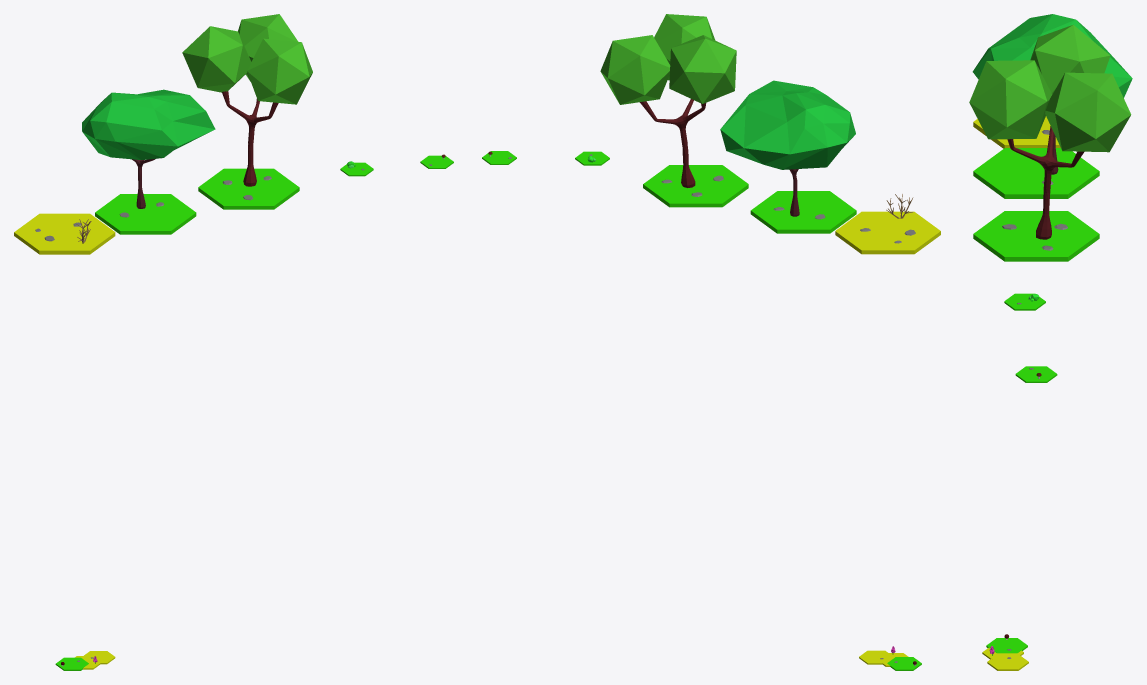
The model's file is yellow3.0.glb.
The picture shows the model from 3 angles, left to right: view 1: azimuth 30°, elevation 25°; view 2: azimuth 150°, elevation 25°; view 3: azimuth 270°, elevation 25°; orthographic projection. The views are drawn at different scales.
Visible parts, largest first — view 1: Icosphere.008, Icosphere.003, Icosphere.001, Cylinder.007, Cylinder.008, Cylinder.009, Icosphere.002, Cube.001; view 2: Icosphere.008, Icosphere.001, Icosphere.002, Cylinder.007, Cylinder.008, Cylinder.009, Icosphere.003, Cube.001; view 3: Icosphere.002, Icosphere.003, Cylinder.009, Cylinder.008, Icosphere.001, Icosphere.008, Cube.001, Cylinder.007, Cylinder.026, Cylinder.013, Cylinder.030, Cylinder.002 (+1 smaller).
Part boxes in pixels (box(x1,y1,x2,y2)): Icosphere.008: box(82, 89, 215, 160); Icosphere.003: box(247, 38, 312, 104); Icosphere.001: box(182, 26, 251, 92); Cylinder.007: box(14, 213, 115, 254); Cylinder.008: box(95, 194, 196, 234); Cylinder.009: box(198, 168, 299, 209); Icosphere.002: box(238, 14, 298, 81); Cube.001: box(222, 91, 278, 186); Icosphere.008: box(720, 80, 855, 169); Icosphere.001: box(669, 35, 736, 103); Icosphere.002: box(600, 35, 670, 104); Cylinder.007: box(835, 211, 940, 254); Cylinder.008: box(750, 191, 856, 233); Cylinder.009: box(643, 165, 748, 207); Icosphere.003: box(654, 14, 714, 80); Cube.001: box(640, 99, 706, 187); Icosphere.002: box(1045, 72, 1131, 152); Icosphere.003: box(969, 60, 1052, 139); Cylinder.009: box(973, 211, 1099, 261); Cylinder.008: box(973, 148, 1099, 198); Icosphere.001: box(1030, 24, 1110, 94); Icosphere.008: box(972, 14, 1132, 97); Cube.001: box(1007, 126, 1084, 239); Cylinder.007: box(973, 116, 1060, 148); Cylinder.026: box(1004, 293, 1045, 310); Cylinder.013: box(1015, 366, 1057, 382); Cylinder.030: box(986, 634, 1027, 653); Cylinder.002: box(987, 655, 1028, 670).
Bounding box in the file's own units: 15.95 × 20.88 × 4.28.
